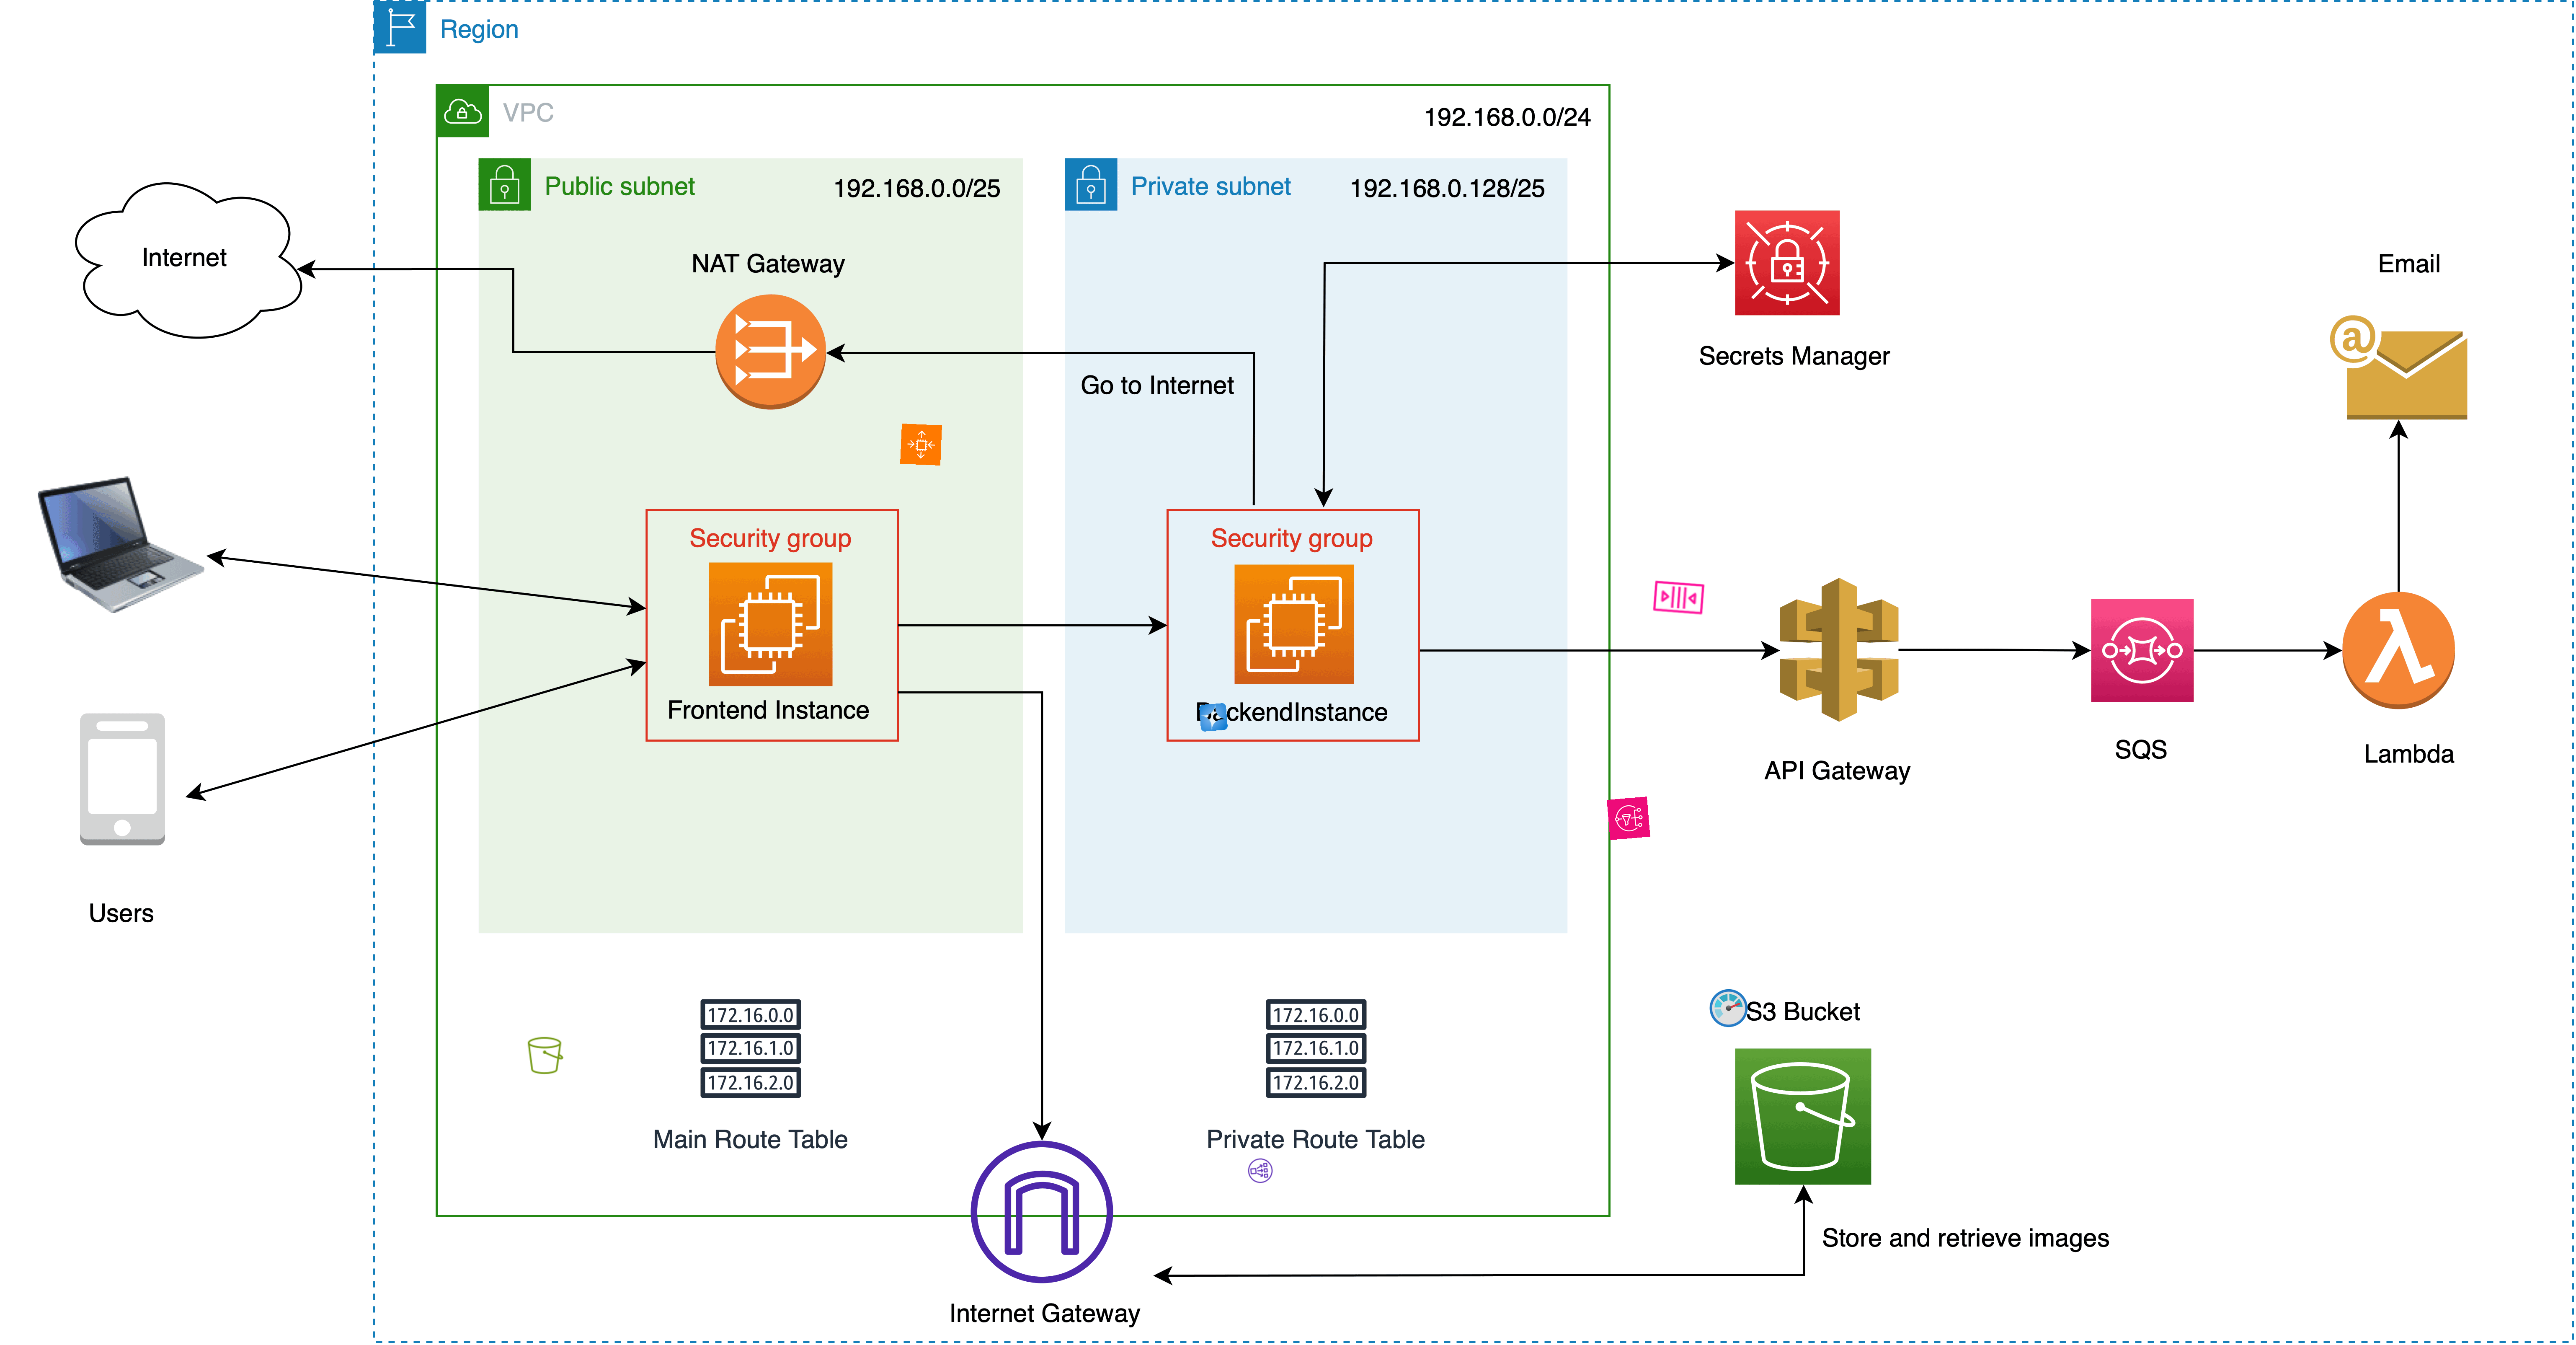aws_amazon_ec2_auto_scaling: (900, 423, 942, 465)
aws_amazon_simple_notification_service: (1607, 796, 1651, 840)
aws_elastic_load_balancing_network_load_balancer: (1245, 1156, 1274, 1185)
aws_simple_queue_service_queue: (1649, 568, 1707, 626)
aws_simple_storage_service_s3_standard: (525, 1035, 566, 1076)
azure_monitor: (1707, 987, 1750, 1030)
azure_openai: (1199, 702, 1228, 731)
